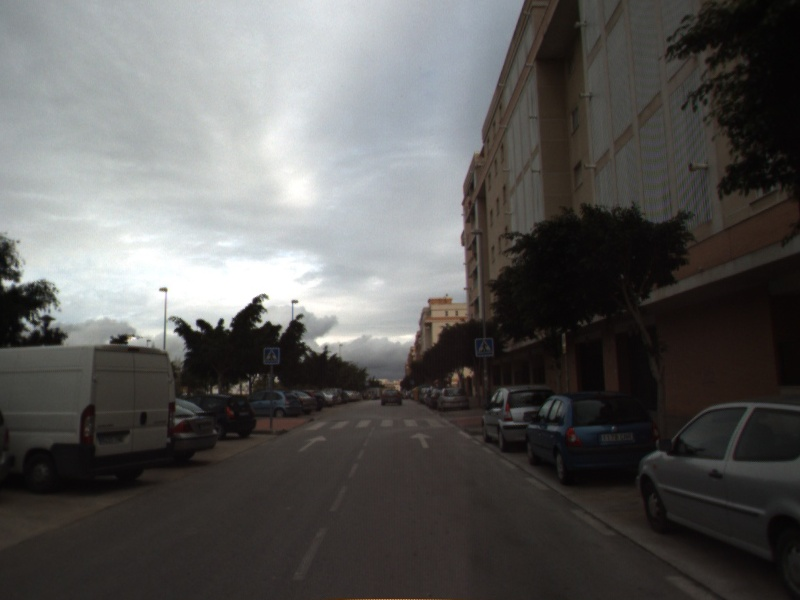STRAIGHT: (296, 433, 329, 453), (408, 430, 435, 450)
